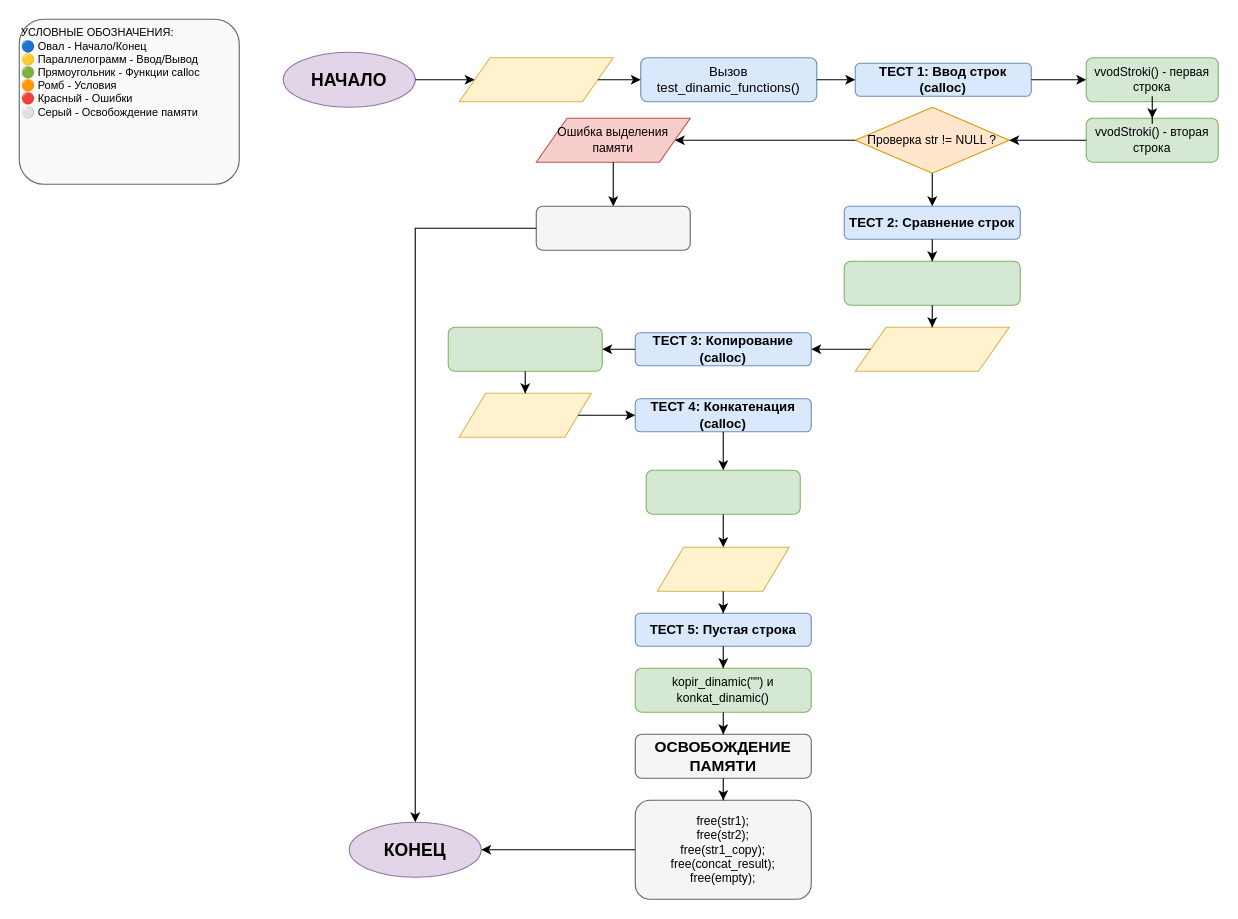
The diagram is 1238 pixels wide and 919 high, and some of its shapes have lost their labels. The centre of each missing label's shape, as x and y in pixels:
"free(выделенные указатели)" goes at (x=612, y=227).
"konkat_dinamic(str1, str2)" goes at (x=722, y=491).
"kopir_dinamic(str1)" goes at (x=524, y=348).
"sravn_dinamic(str1, str2)" goes at (x=931, y=282).
"Вывод заголовка программы" goes at (x=535, y=79).
"Вывод оригинала и копии" goes at (x=524, y=414).
"Вывод результата конкатенации" goes at (x=722, y=568).
"Вывод результата сравнения" goes at (x=931, y=348).
